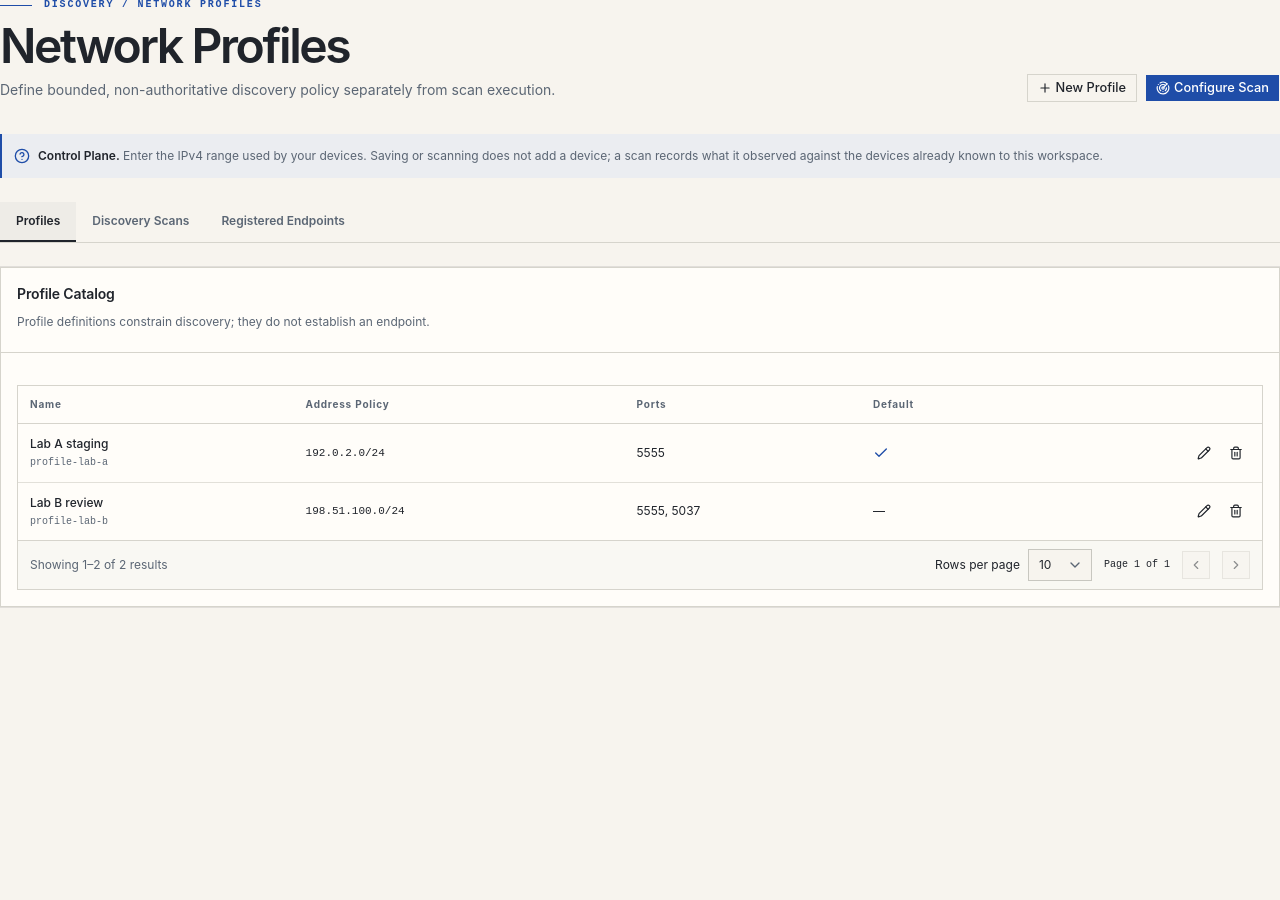
Test: NetworkProfilesPage profile save failures › keeps the dialog open and renders the failure inside the dialog, not in the page banner
The width and height of the screenshot is (1280, 900).
Click the button "New Profile". click: [1082, 88]
box: [1026,74,1137,102]
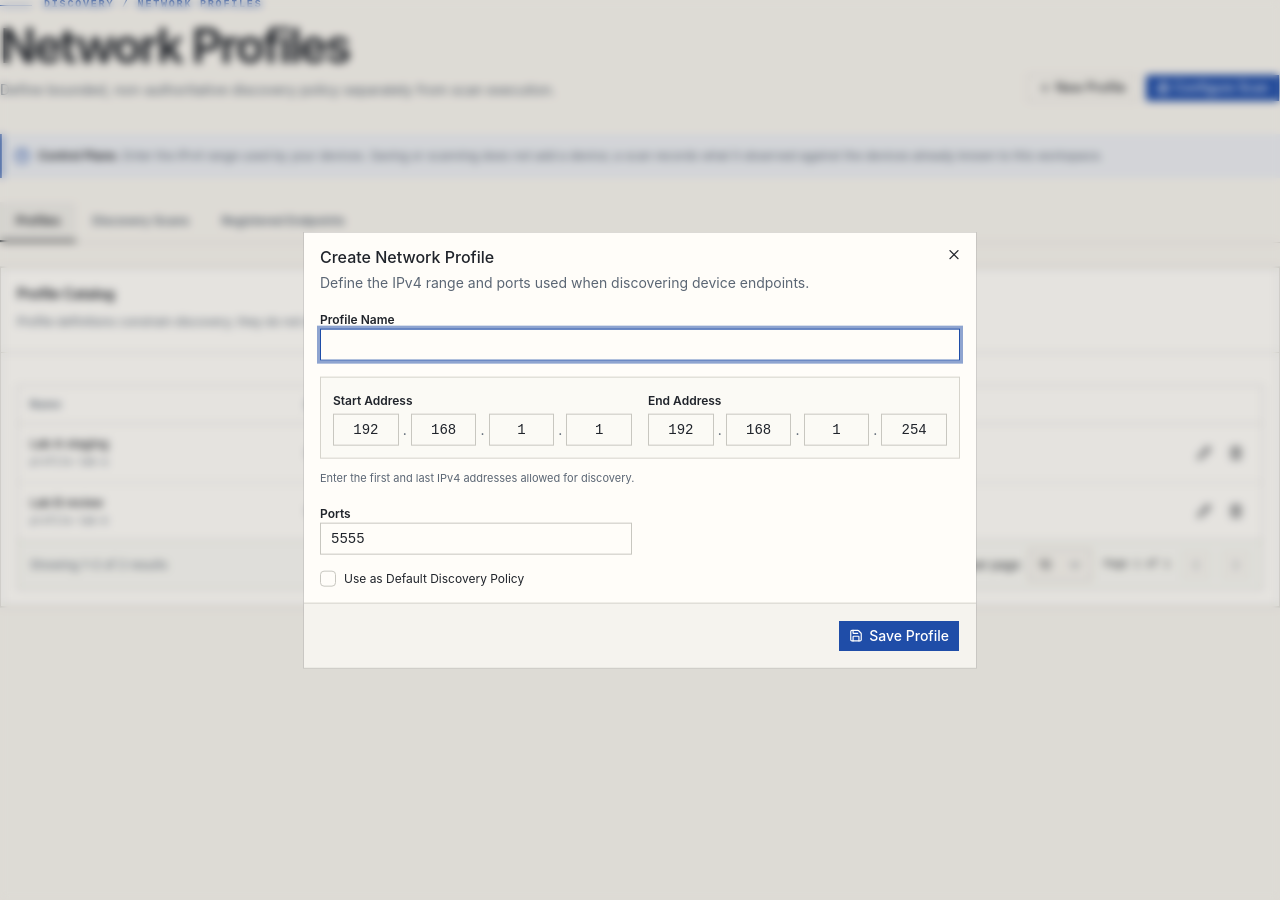
Type "Test" into the field labelled "Profile Name". click: [640, 345]
box: [320,329,960,361]
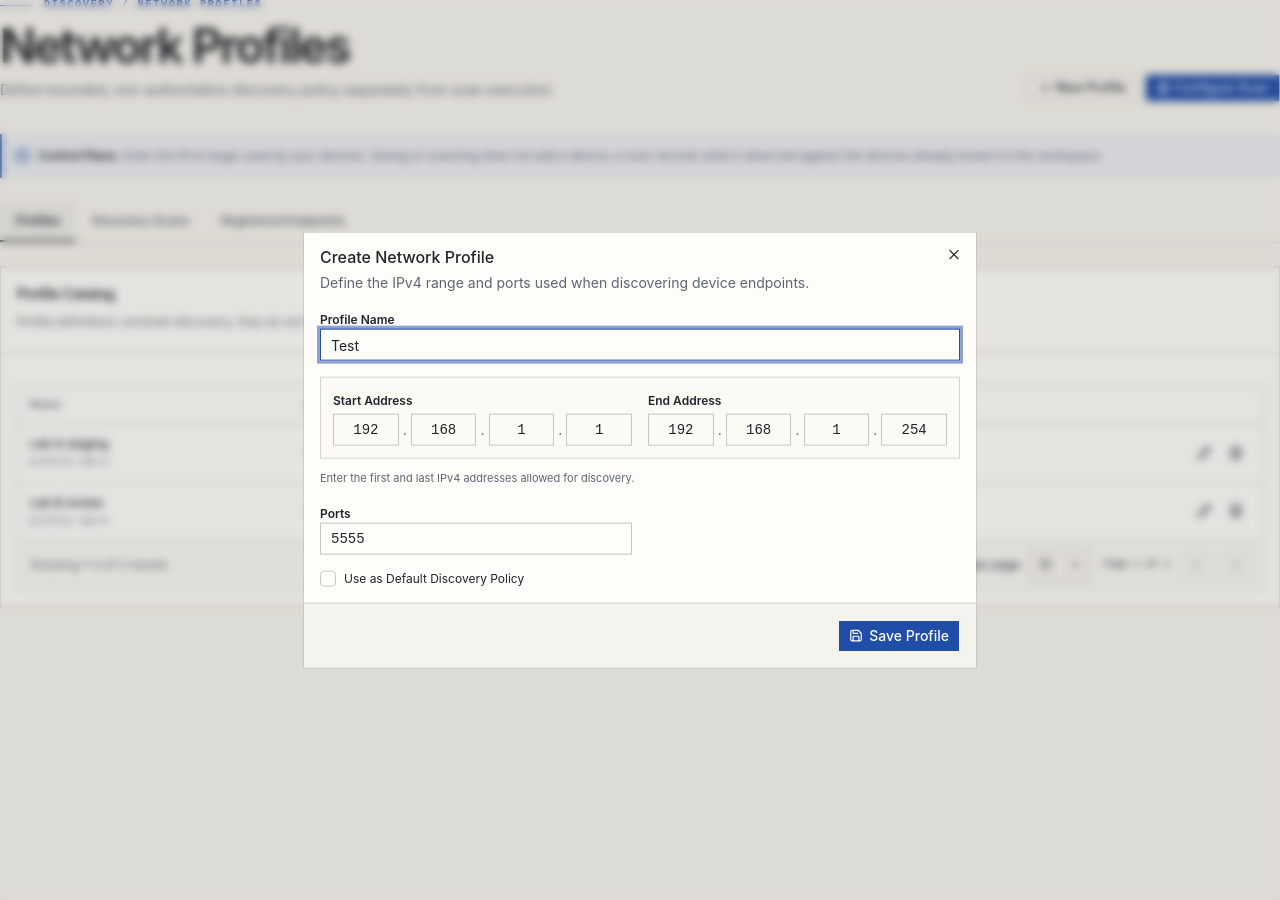
Click the button "Save Profile". click: [899, 635]
box: [838,619,960,651]
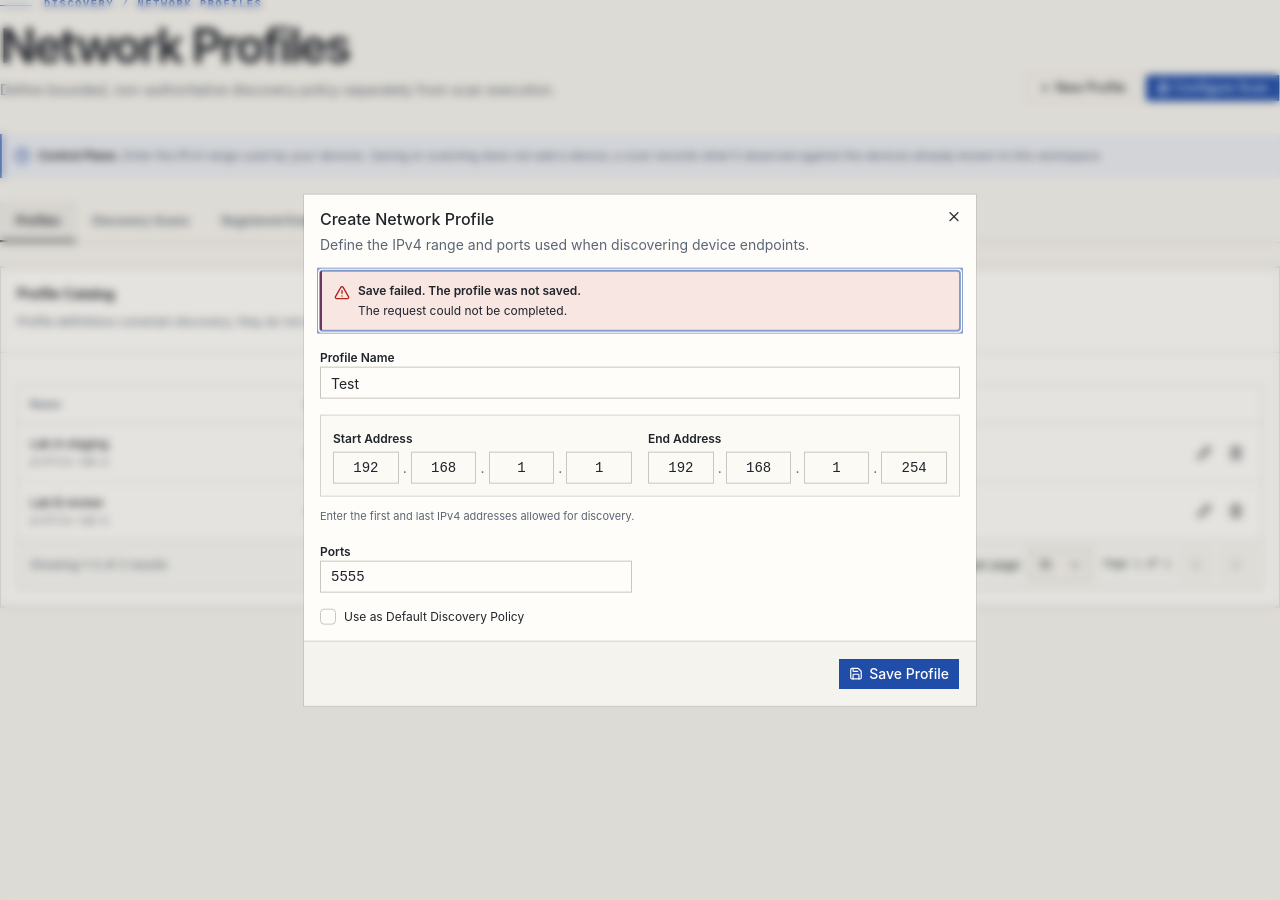
Result: the message shows "The request could not be completed." at [358,303,567,318]
Result: the text "Save failed. The profile was not saved." is shown at [358,283,581,299]
